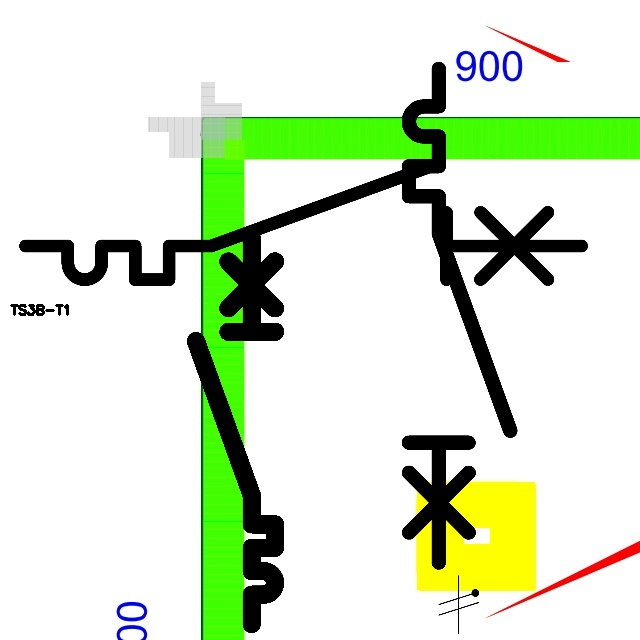interruptor_termomagnetico: (11, 151, 596, 294), (396, 56, 523, 575), (186, 228, 285, 634)
